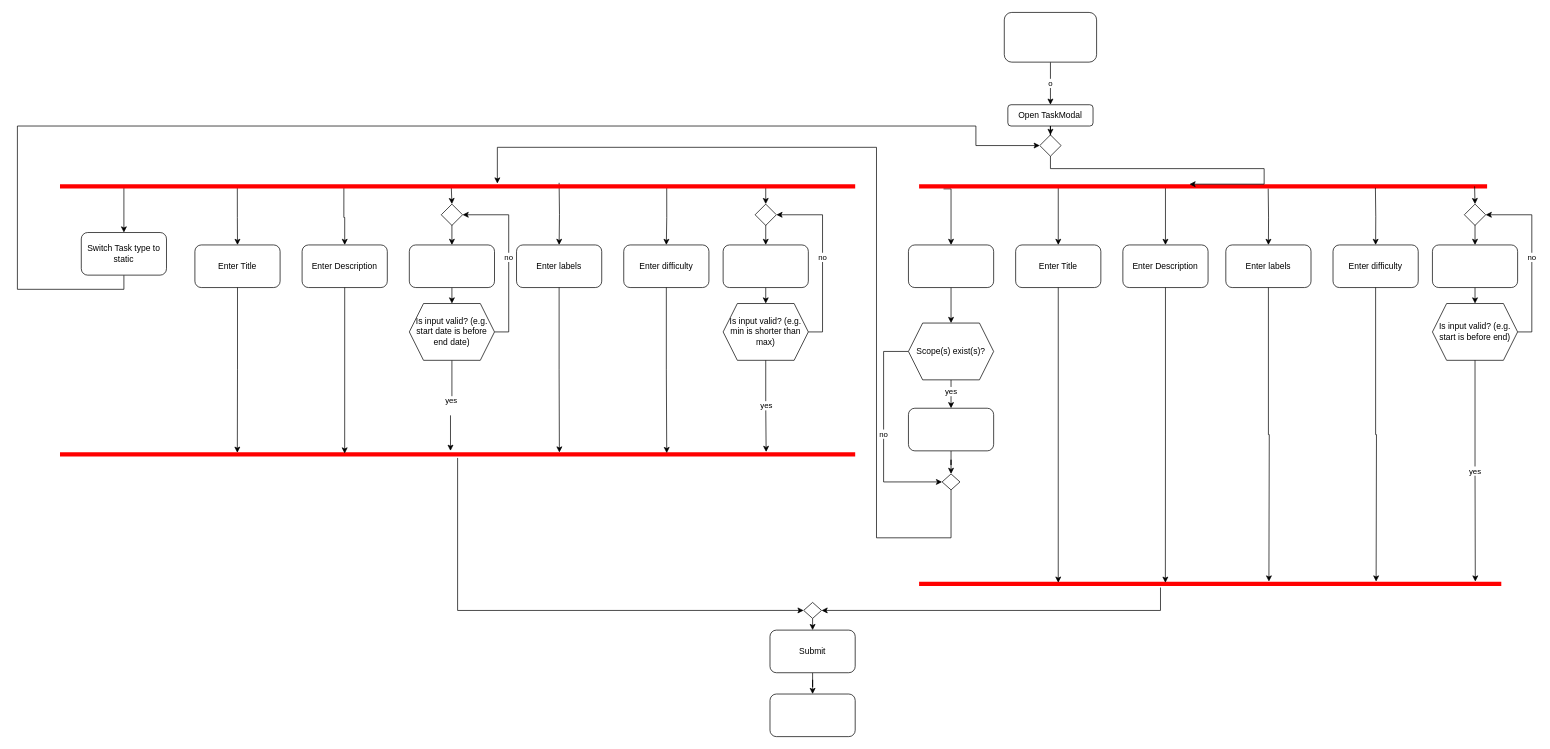
The diagram is 1550 pixels wide and 749 high, and some of its shapes have lost their labels. Each missing label, with the centre of its shape:
Click "Add Task" button or into open space in calendar view: the point at 1050,37
Enter minimum and maximum session length: the point at 765,266
Enter Scopes: the point at 1475,266
Enter start and end date: the point at 452,266
Run Algorithm: the point at 812,715
Switch Task type to planned: the point at 951,266
Warn user that scopes will be discarded: the point at 951,429
